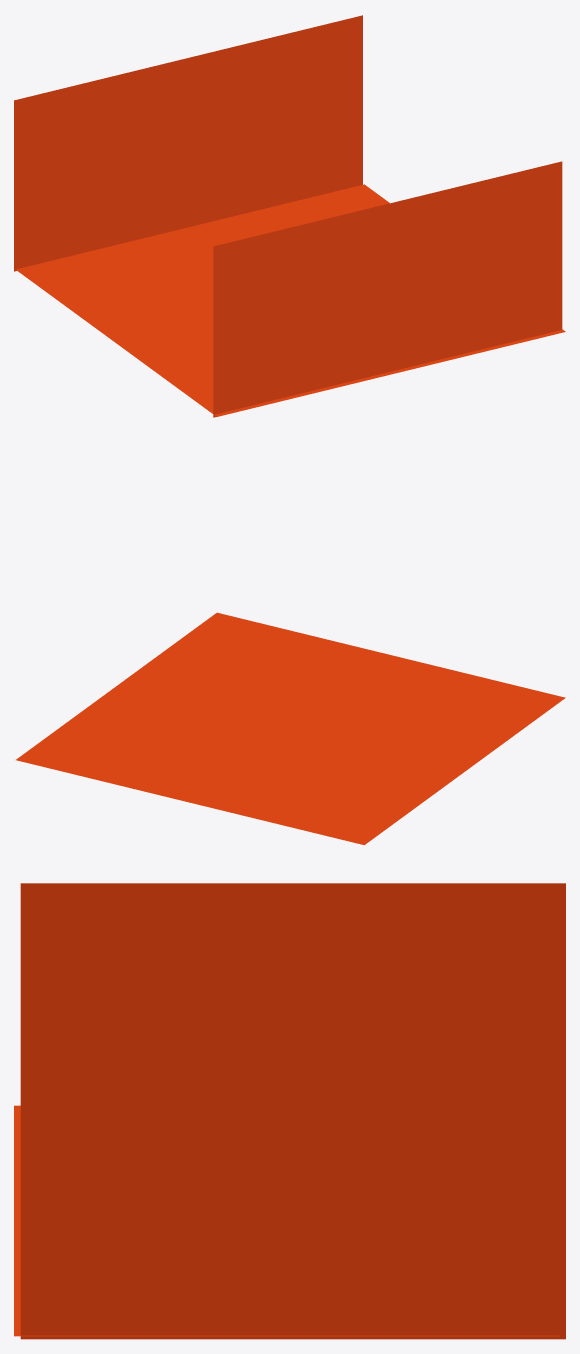
Rendered from room_basic.gltf.
The picture shows the model from 3 angles, top to bottom: view 1: azimuth 30°, elevation 25°; view 2: azimuth 150°, elevation 25°; view 3: azimuth 270°, elevation 25°; orthographic projection. The views are drawn at different scales.
Parts seen in each view (by area): view 1: Plane; view 2: Plane; view 3: Plane.
Boxes of the visible parts, x1,y1,x2,y2 form: Plane: (14, 15, 565, 417); Plane: (16, 612, 565, 845); Plane: (14, 883, 565, 1339).
Bounding box in the file's own units: 15.92 × 7.45 × 16.1.
